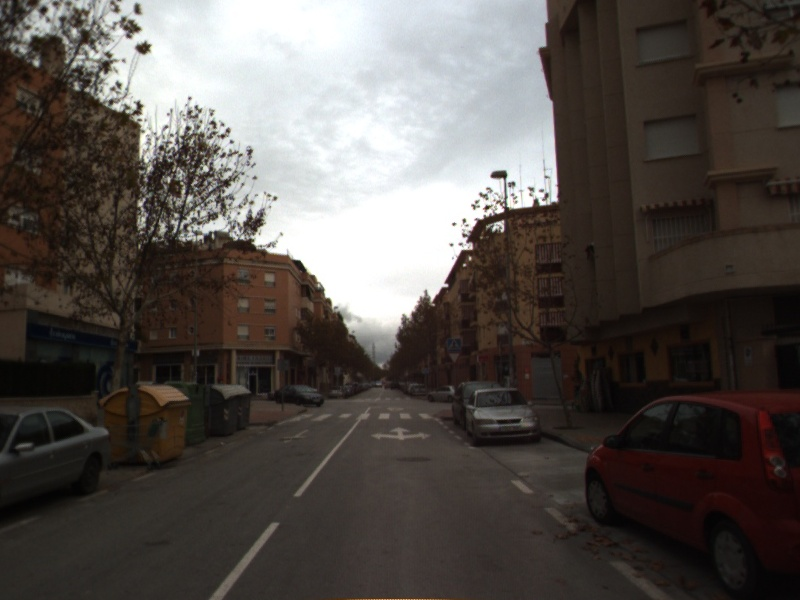STRAIGHT_LEFT_RIGHT: (368, 425, 433, 443)
